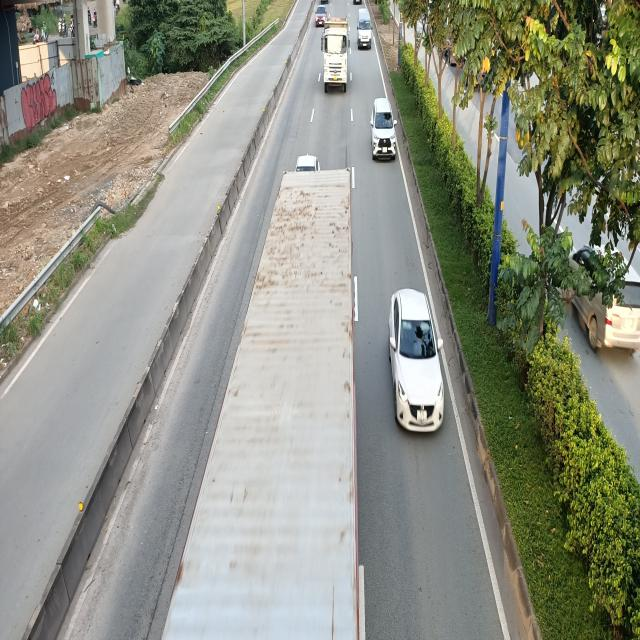car: (388, 288, 445, 434), (371, 98, 398, 160)
container: (160, 167, 359, 640), (324, 17, 348, 92)
van: (356, 8, 372, 48)
